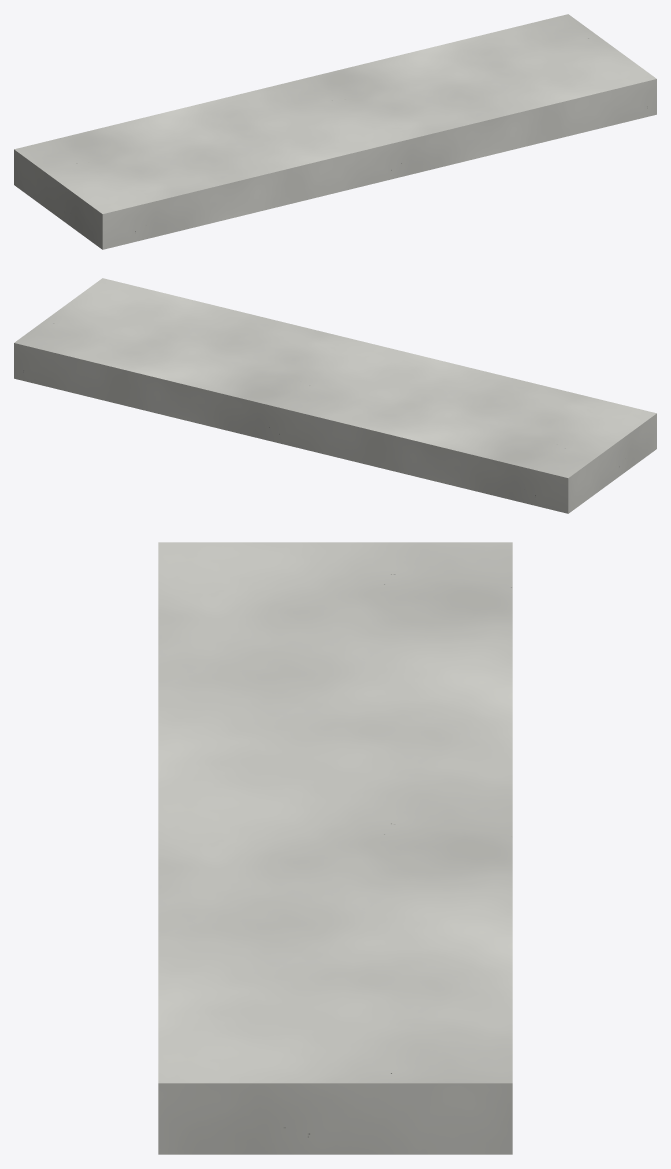
The model's file is light_fluoro.glb.
The picture shows the model from 3 angles, top to bottom: view 1: azimuth 30°, elevation 25°; view 2: azimuth 150°, elevation 25°; view 3: azimuth 270°, elevation 25°; orthographic projection. The views are drawn at different scales.
Parts seen in each view (by area): view 1: light_fluoro; view 2: light_fluoro; view 3: light_fluoro.
Part boxes in pixels (bbox=[...]): light_fluoro: bbox=[14, 14, 656, 249]; light_fluoro: bbox=[14, 278, 656, 513]; light_fluoro: bbox=[158, 542, 512, 1154].
Size of the model in its own units: 1.3 by 0.085 by 0.36.
2 materials, 1 textured.
